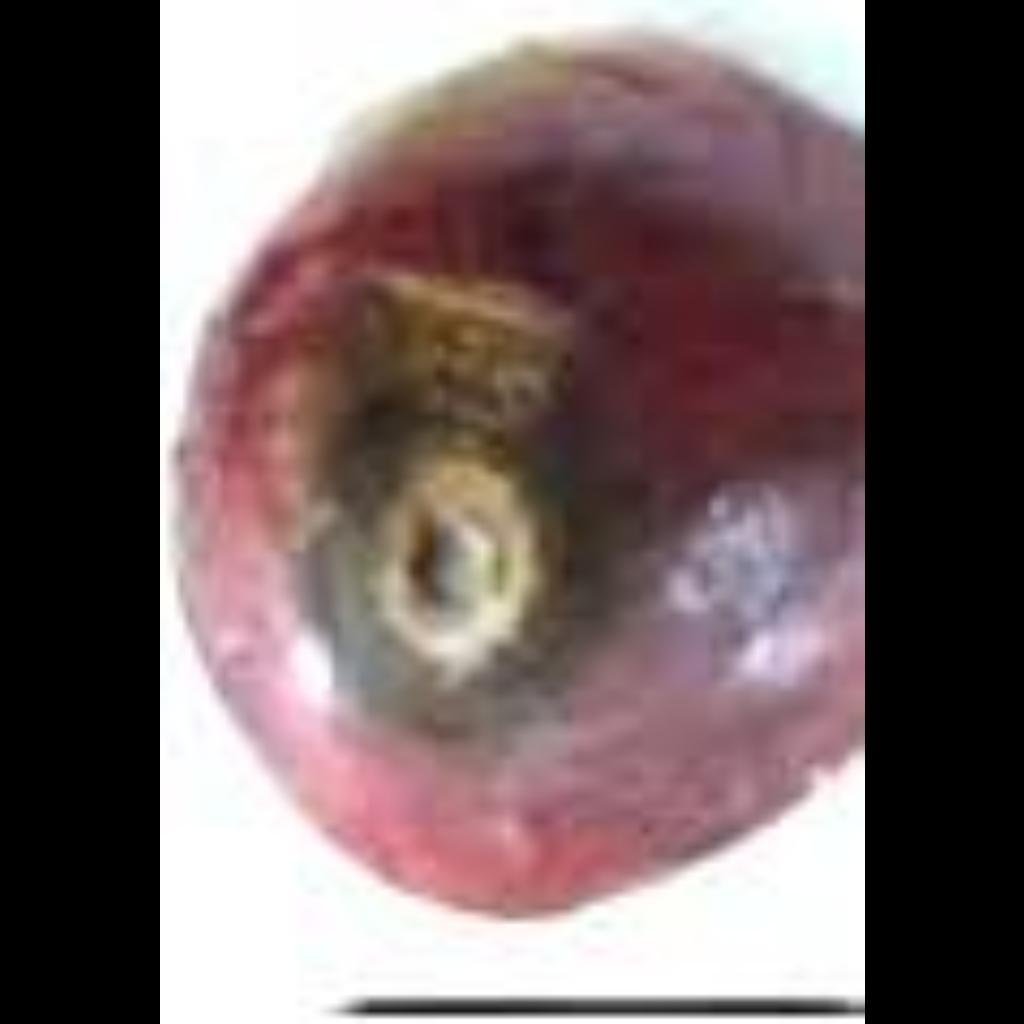antracnosis_fruto: (194, 155, 865, 809)
